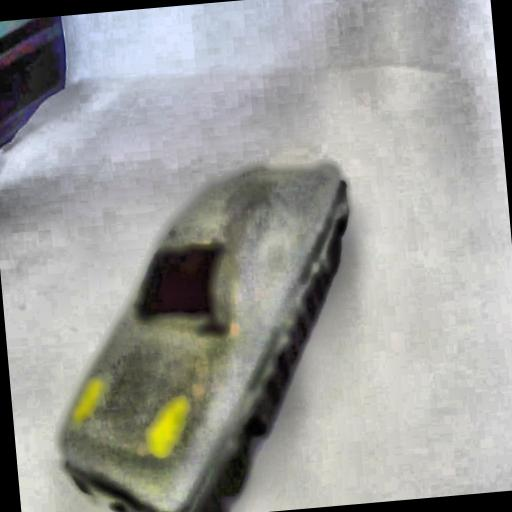normal_car: (59, 165, 350, 512)
